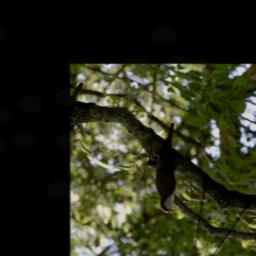Cuckoo: (137, 118, 209, 218)
